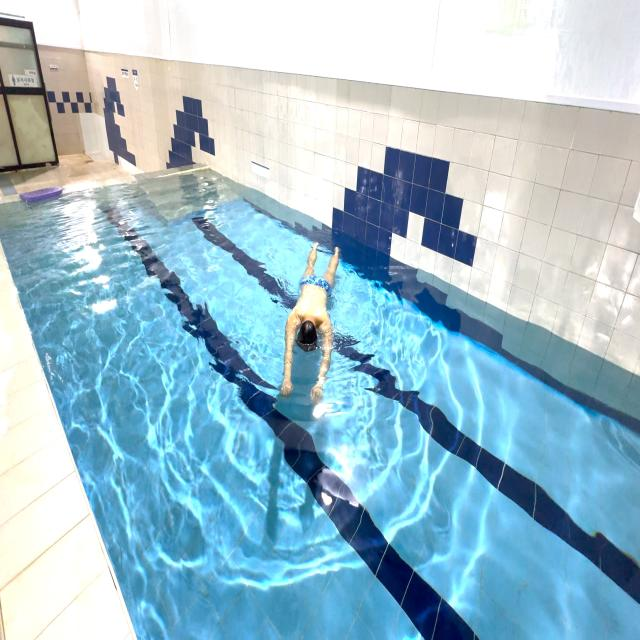Swimming: (272, 224, 350, 418)
